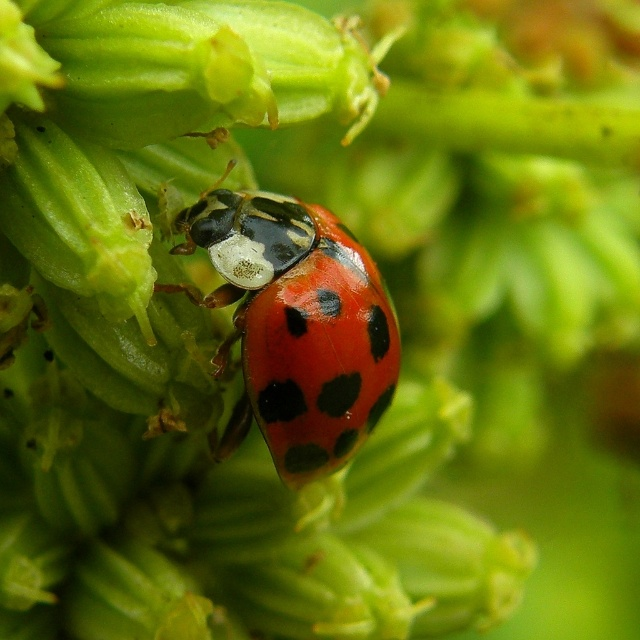Ladybug: (154, 162, 402, 495)
